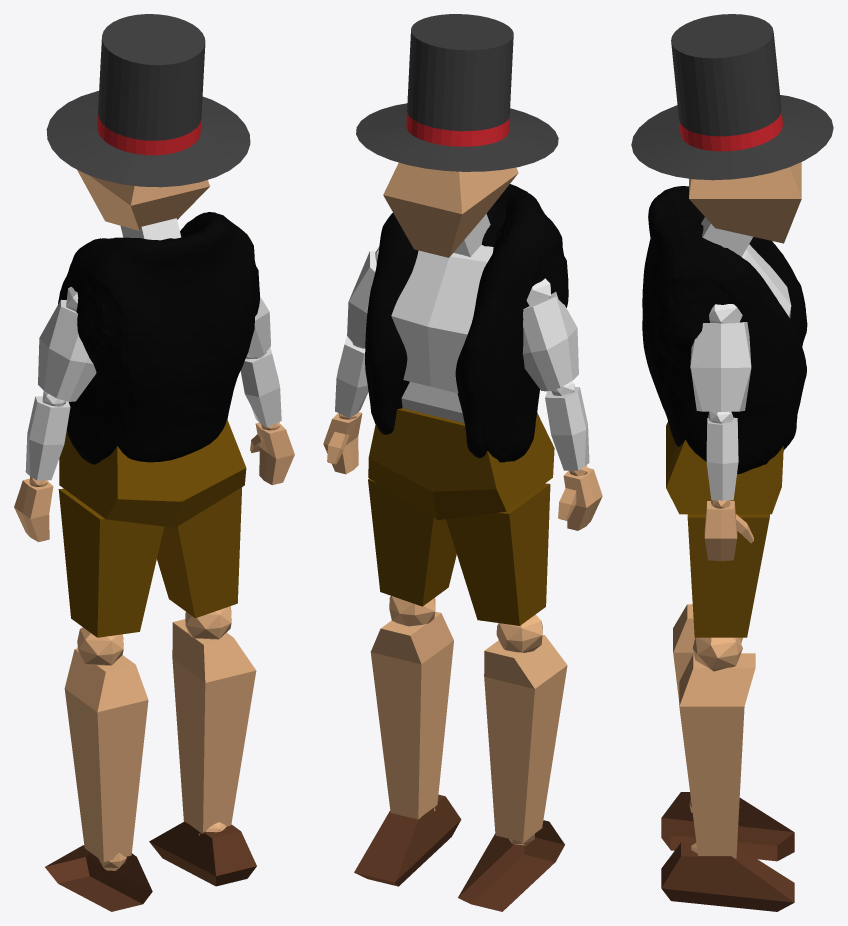
File: Mathieu.fbx
3 views of the same model, side by side, from view 1: azimuth 30°, elevation 25°; view 2: azimuth 150°, elevation 25°; view 3: azimuth 270°, elevation 25° (orthographic).
Visible parts, largest first — view 1: Cube.122, Cylinder.002, Cube.112, Cube.110, Torso.007, BeinLi.007, BeinRe.007, Cube.111, Head.007, Cube.113, Cube.114, Cube.115 (+7 smaller); view 2: Cube.122, Cylinder.002, Torso.007, Cube.110, Cube.112, BeinLi.007, Cube.108, Head.007, BeinRe.007, Cube.111, Cube.113, Cube.114 (+9 smaller); view 3: Cube.122, Cylinder.002, Cube.110, BeinRe.007, Cube.111, Head.007, Torso.007, Cube.118, Cube.113, Cube.119, Cube.120, Icosphere.056 (+4 smaller).
Part boxes in pixels (x1,y1,x2,y2): Cube.122: (58, 212, 259, 464); Cylinder.002: (46, 14, 250, 187); Cube.112: (64, 648, 148, 861); Cube.110: (172, 619, 256, 833); Torso.007: (59, 419, 246, 527); BeinLi.007: (58, 488, 163, 637); BeinRe.007: (157, 487, 241, 618); Cube.111: (149, 821, 256, 886); Head.007: (77, 169, 209, 230); Cube.113: (45, 845, 152, 911); Cube.114: (38, 299, 96, 401); Cube.115: (25, 396, 70, 480); Cube.122: (365, 184, 568, 462); Cylinder.002: (356, 14, 558, 171); Torso.007: (368, 408, 554, 519); Cube.110: (370, 611, 453, 819); Cube.112: (484, 634, 567, 841); BeinLi.007: (446, 483, 550, 625); Cube.108: (391, 245, 493, 393); Head.007: (383, 162, 518, 257); BeinRe.007: (368, 478, 456, 606); Cube.111: (354, 794, 461, 886); Cube.113: (458, 820, 564, 911); Cube.114: (522, 292, 578, 391); Cube.122: (642, 186, 807, 473); Cylinder.002: (631, 14, 833, 180); Cube.110: (679, 653, 755, 858); BeinRe.007: (687, 514, 769, 637); Cube.111: (661, 842, 794, 911); Head.007: (689, 162, 801, 243); Torso.007: (666, 421, 783, 514); Cube.118: (690, 322, 751, 411); Cube.113: (661, 792, 794, 861); Cube.119: (706, 417, 738, 500); Cube.120: (704, 500, 737, 560); Icosphere.056: (692, 637, 742, 671).
Size of the model in its own units: 94.8 by 292 by 63.14.
